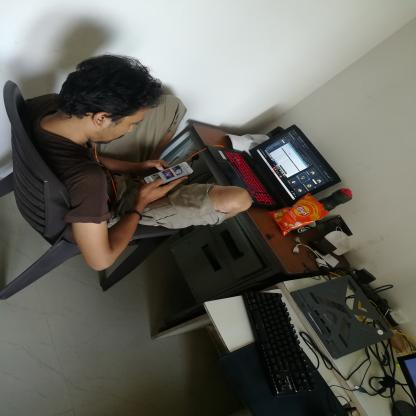hot_and_sweet: (275, 192, 325, 239)
